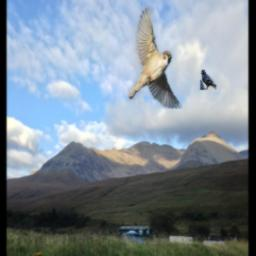Crow: (201, 70, 217, 91)
Sparrow: (128, 7, 182, 110)
